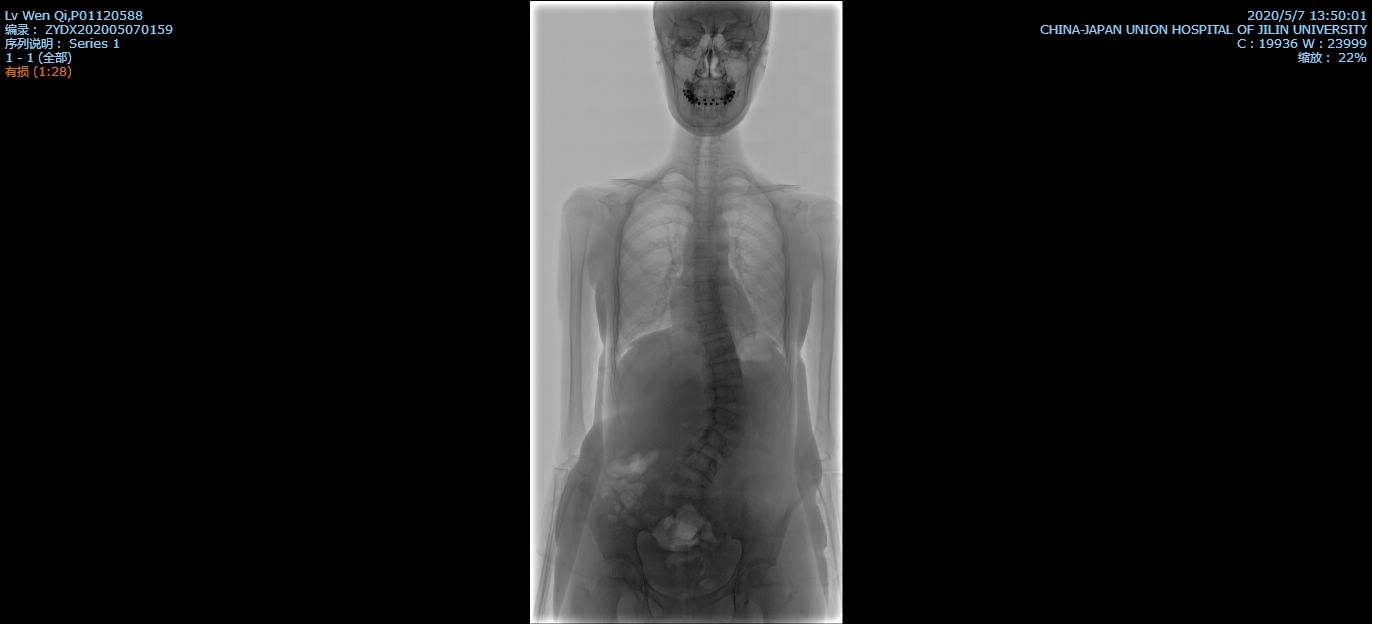Bone: (696, 430, 741, 458), (686, 451, 719, 477), (706, 409, 747, 429), (707, 385, 746, 402), (708, 360, 741, 379), (701, 338, 734, 357), (698, 318, 725, 336), (694, 282, 719, 298), (693, 225, 716, 240), (693, 263, 717, 277), (695, 300, 722, 312), (695, 244, 717, 258)
